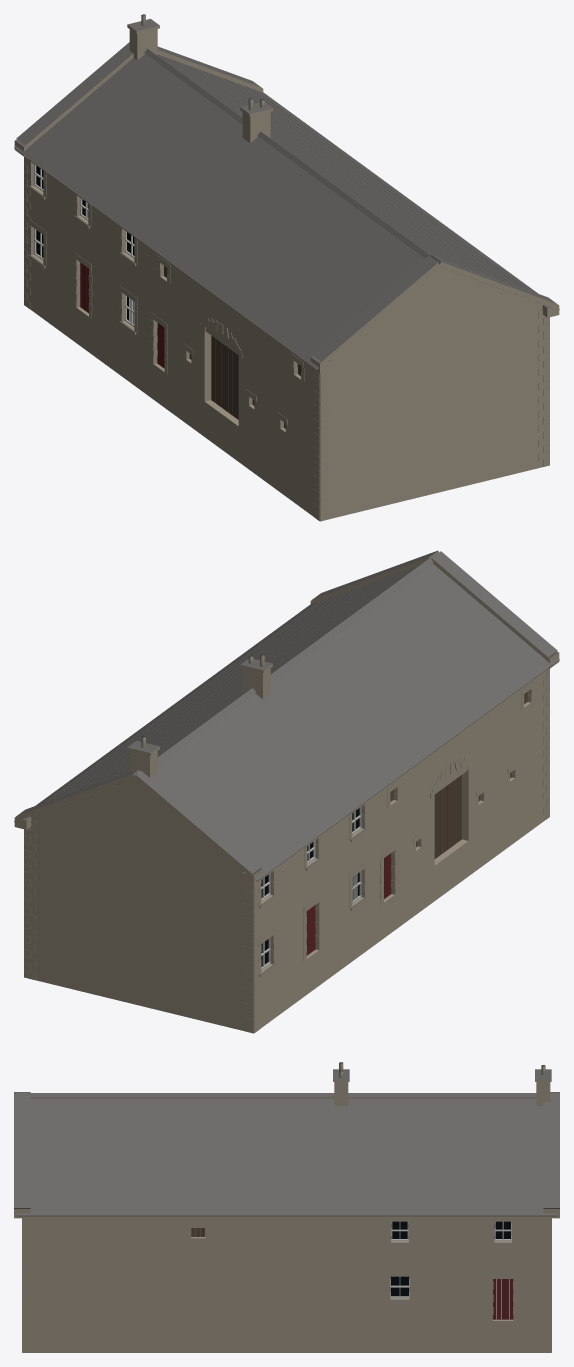
Rendered from context.dales.house_28.glb.
3 renders of one model, top to bottom at view 1: azimuth 30°, elevation 25°; view 2: azimuth 150°, elevation 25°; view 3: azimuth 270°, elevation 25°, orthographic. The views are drawn at different scales.
Parts seen in each view (by area): view 1: main__stone_a98, main__slate_666, main__paint_543, main__paint_ccc, main__paint_622; view 2: main__stone_a98, main__slate_666, main__paint_543, main__paint_ccc; view 3: main__stone_a98, main__slate_666, main__glass_dark, main__paint_622, main__paint_ccc, main__paint_522.
Part boxes in pixels (left/top/right/bottom): main__stone_a98: left=14, top=16, right=559, bottom=521; main__slate_666: left=14, top=14, right=558, bottom=514; main__paint_543: left=213, top=337, right=301, bottom=419; main__paint_ccc: left=34, top=164, right=134, bottom=327; main__paint_622: left=80, top=262, right=164, bottom=367; main__stone_a98: left=14, top=557, right=559, bottom=1033; main__slate_666: left=15, top=550, right=559, bottom=1026; main__paint_543: left=434, top=693, right=525, bottom=858; main__paint_ccc: left=261, top=807, right=361, bottom=969; main__stone_a98: left=14, top=1063, right=559, bottom=1352; main__slate_666: left=14, top=1062, right=559, bottom=1308; main__glass_dark: left=390, top=1221, right=510, bottom=1296; main__paint_622: left=493, top=1279, right=509, bottom=1319; main__paint_ccc: left=390, top=1221, right=511, bottom=1298; main__paint_522: left=501, top=1279, right=513, bottom=1319.
Size of the model in its own units: 10.76 by 11.2 by 23.36.
